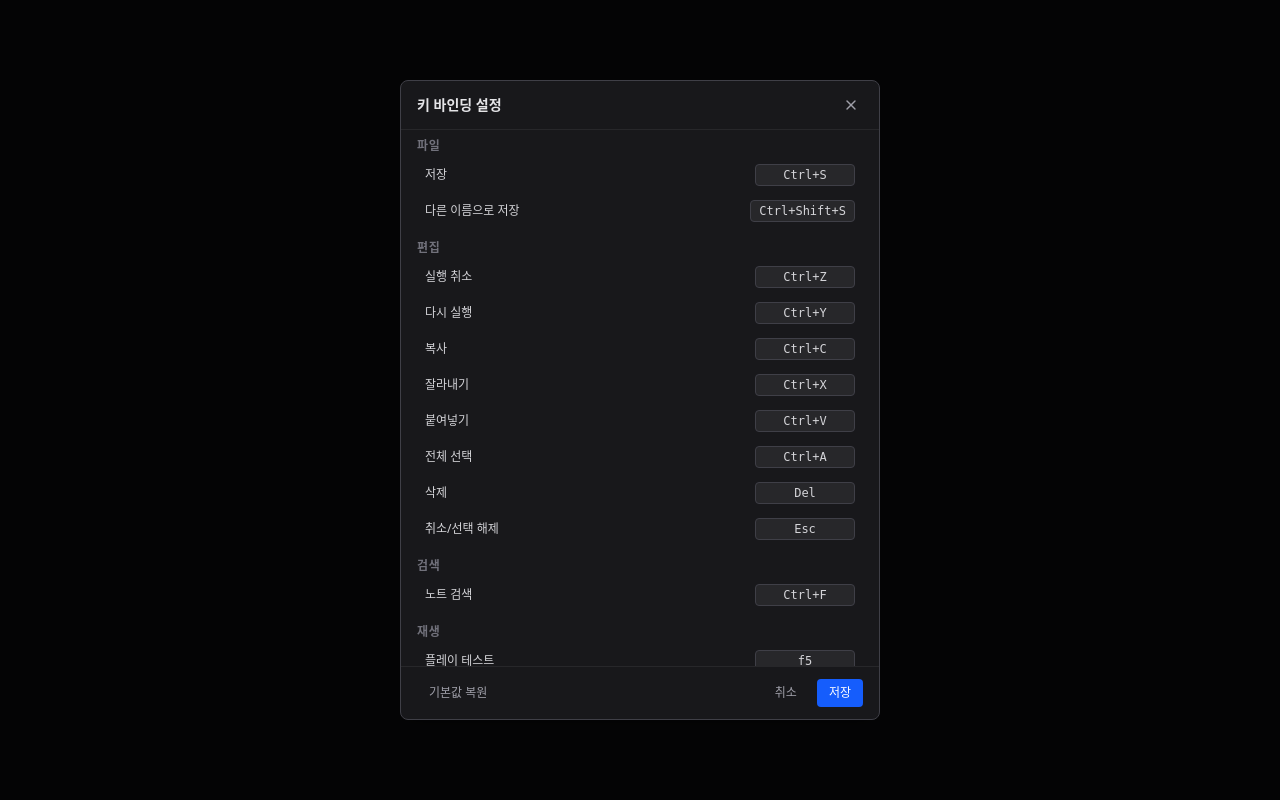
Test: KeyBindingsDialog › updates the binding when a key is pressed during editing
Click the button "Ctrl+S". click: (805, 175)
box: [755,164,855,186]
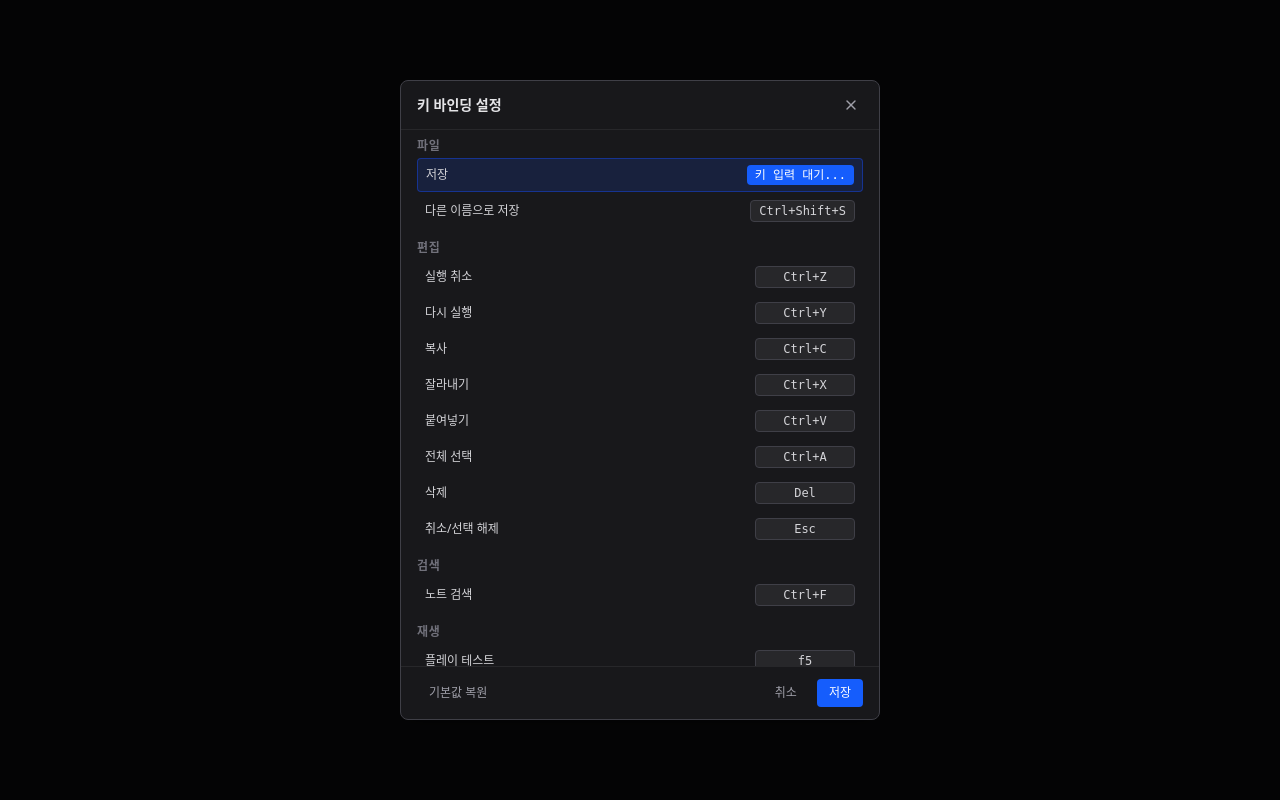
Simulate pressing Ctrl+P
Press p
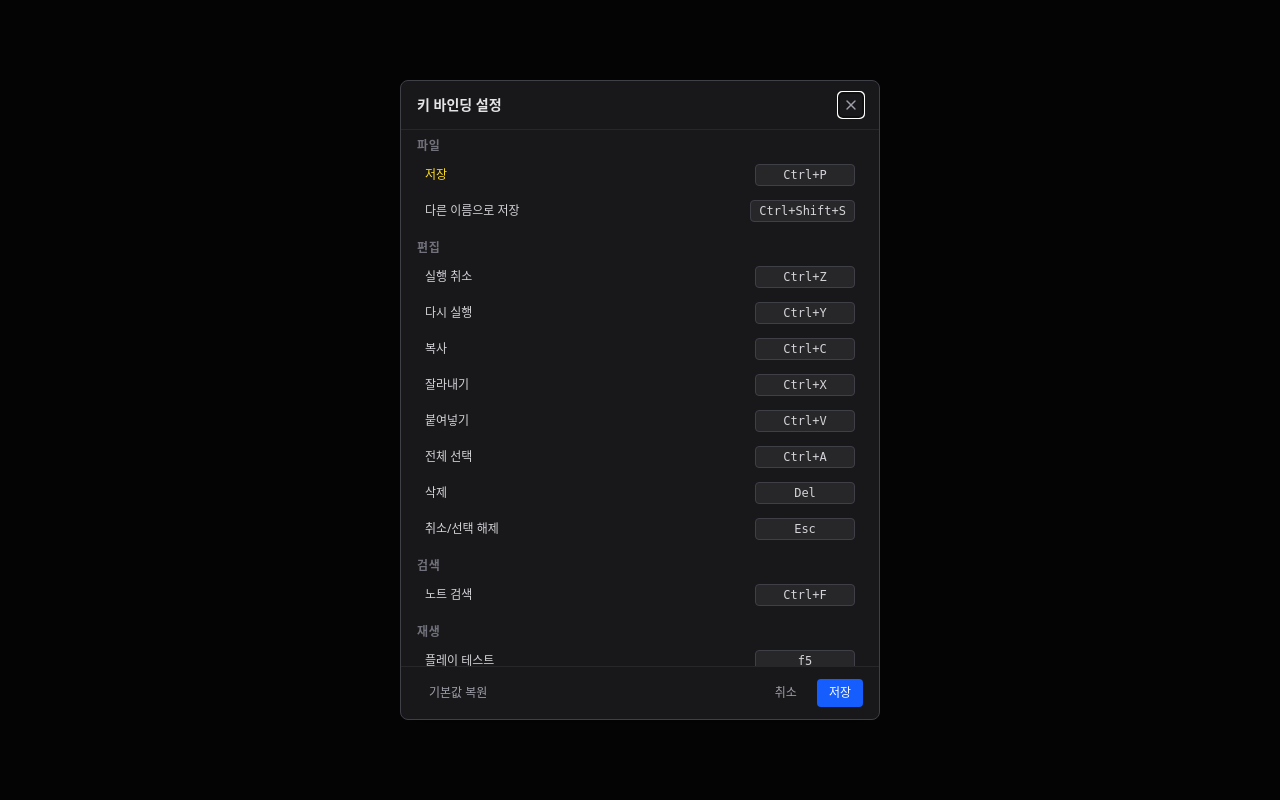
Expected: the button "키 입력 대기..." is gone
Expected: the button "Ctrl+P" is shown, [755,164,855,186]
